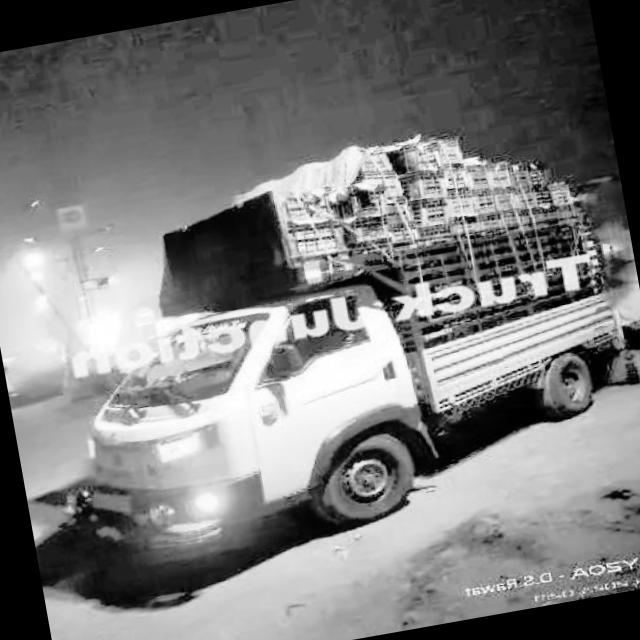Truck: (11, 103, 640, 578)
